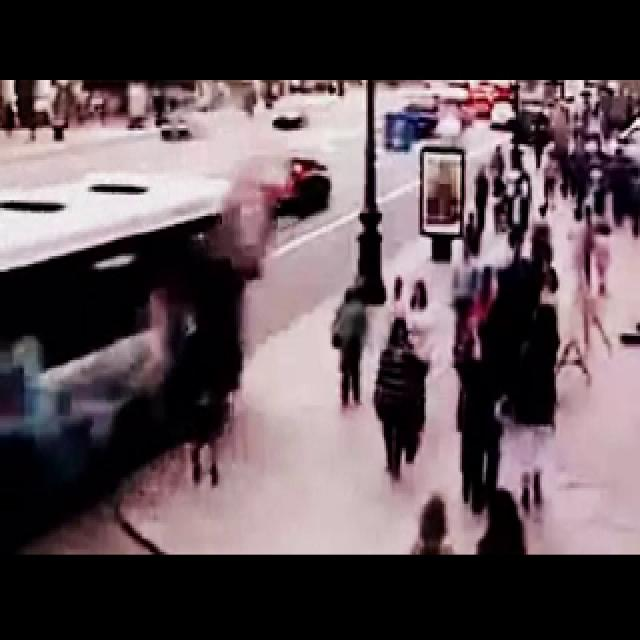road accidents: (22, 86, 329, 568)
